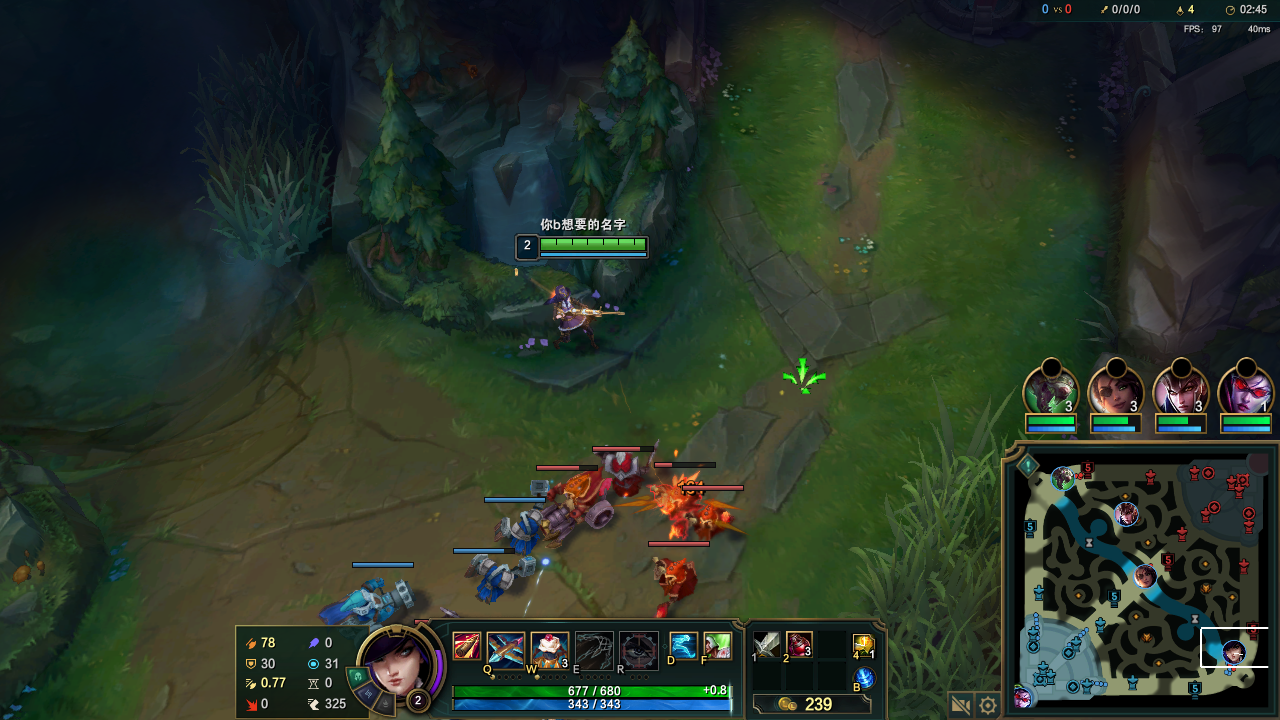DFXB: (553, 479, 612, 536), (655, 555, 697, 603), (654, 481, 692, 524), (605, 454, 639, 493), (694, 501, 729, 534)
WFXB: (322, 576, 414, 620), (464, 557, 523, 600), (495, 507, 537, 552)
Yita: (1186, 675, 1203, 699)
